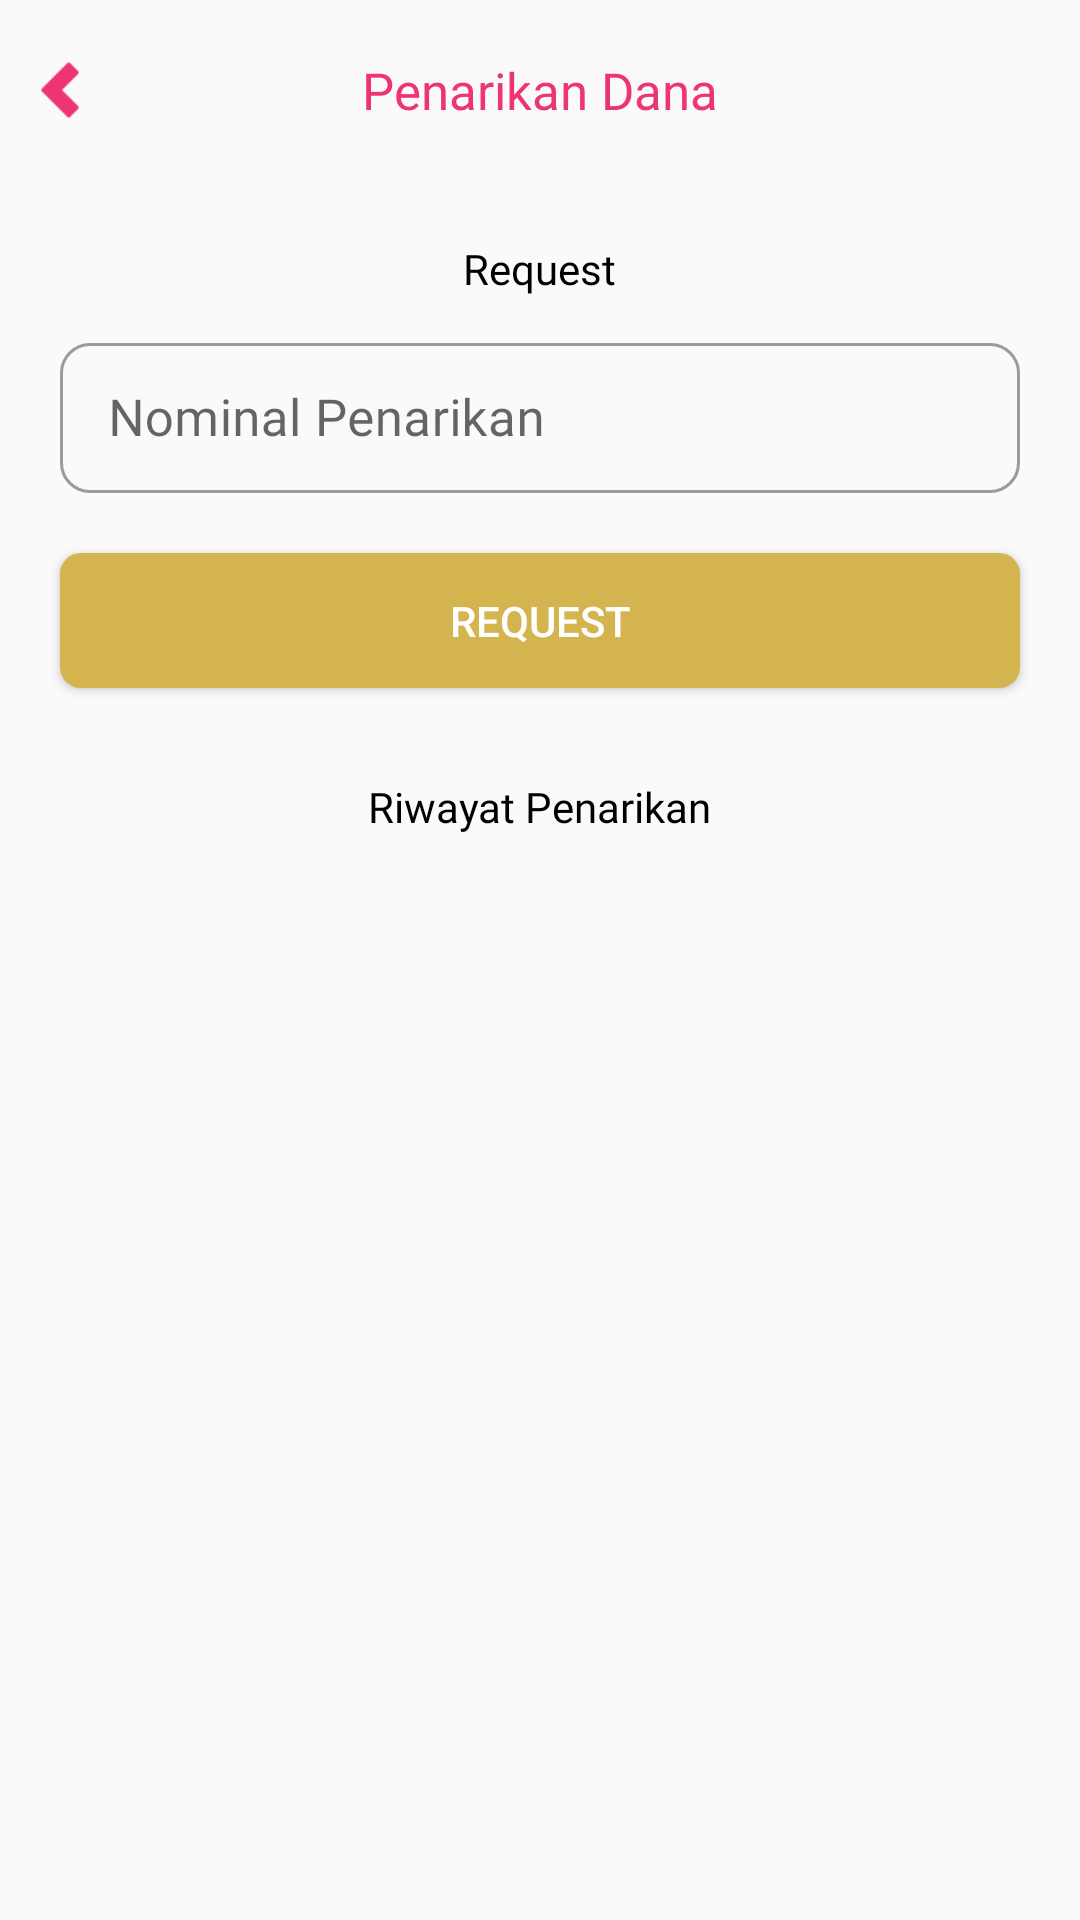

Icon click points for this 1080*1920 phone screenshot, format [x,y]:
arrow left: [60,90]
